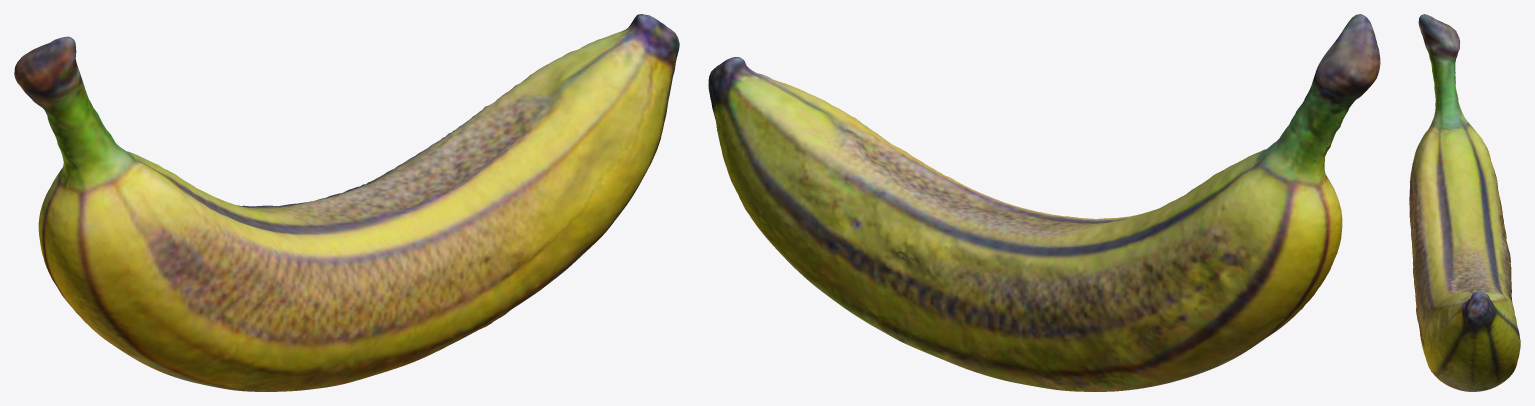
File: banana_1.glb
3 renders of one model, left to right at view 1: azimuth 30°, elevation 25°; view 2: azimuth 150°, elevation 25°; view 3: azimuth 270°, elevation 25°, orthographic. The views are drawn at different scales.
Parts seen in each view (by area): view 1: Mesh1; view 2: Mesh1; view 3: Mesh1.
Boxes of the visible parts, x1,y1,x2,y2 form: Mesh1: (14, 14, 679, 391); Mesh1: (708, 14, 1380, 391); Mesh1: (1409, 14, 1520, 391).
Size of the model in its own units: 1.2 by 0.7331 by 0.286.
1 material, 1 textured.
